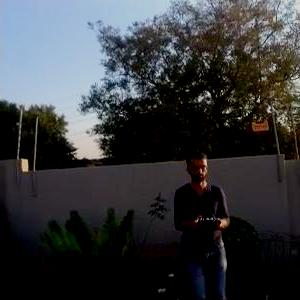follow: (169, 151, 234, 298)
